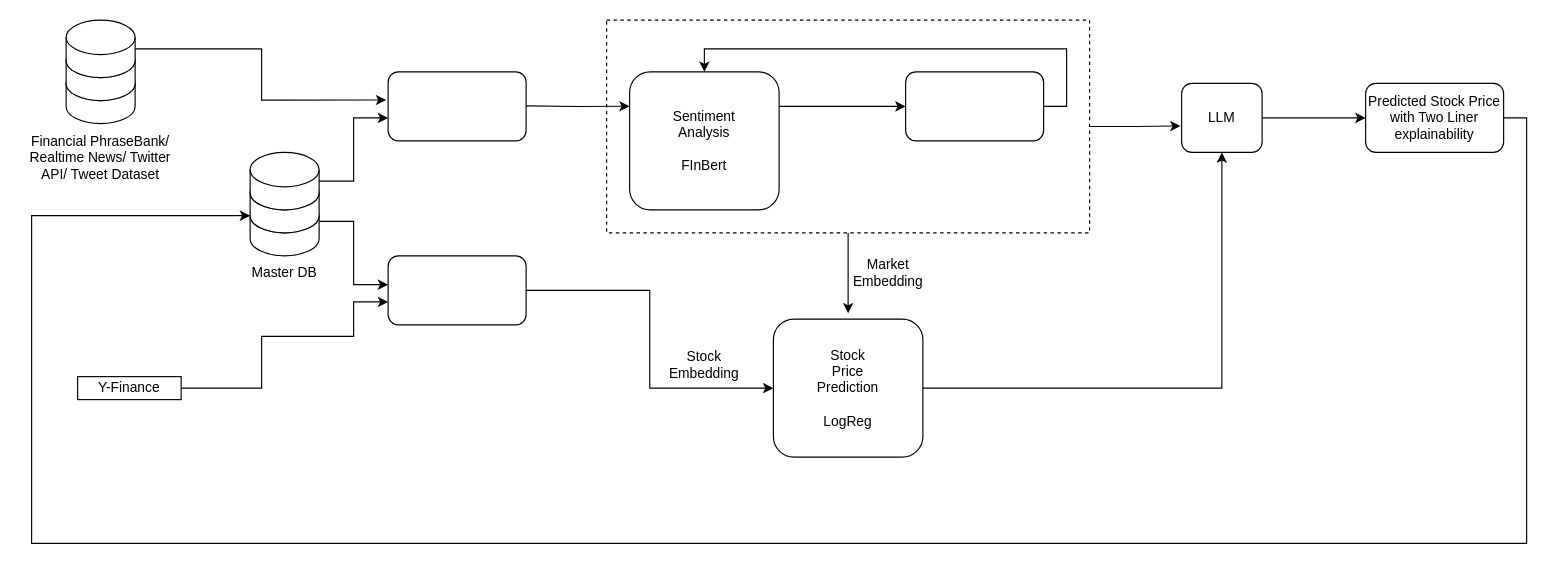
The diagram is 1556 pixels wide and 573 high, and some of its shapes have lost their labels. Each missing label, with the centre of its shape:
"Market Correlation" belongs at [974,106].
"Market Data Preprocessing" belongs at [456,290].
"Text Preprocessing" belongs at [456,106].
